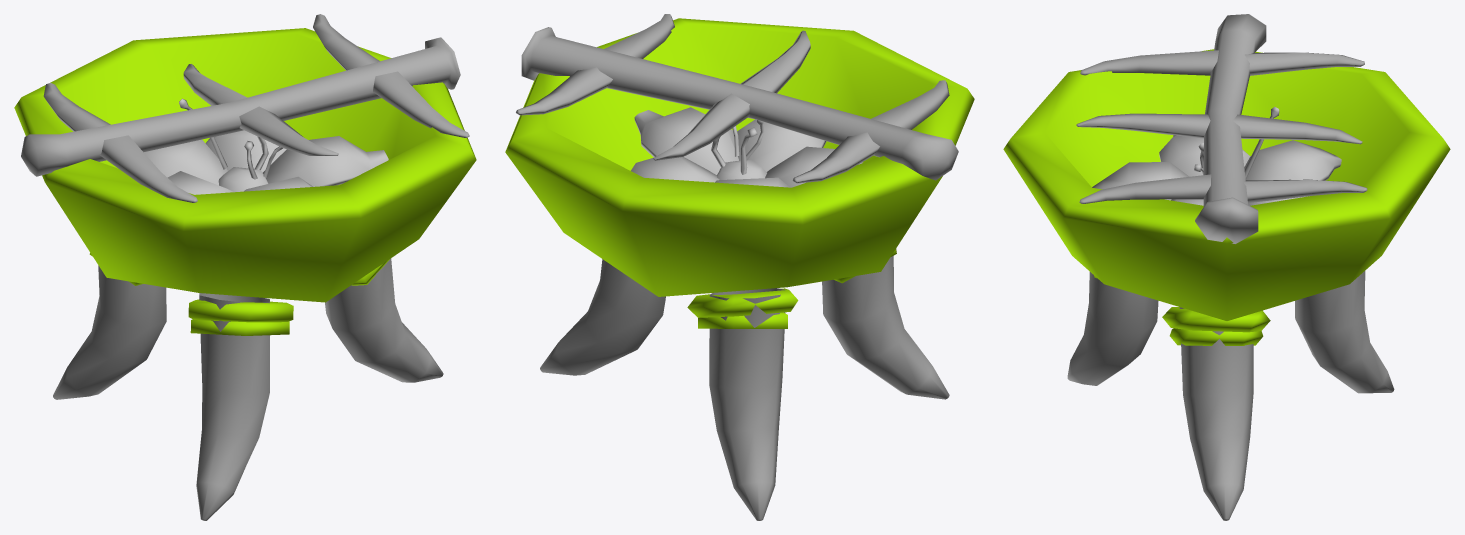
The model's file is LOD1_barbeuc.fbx.
3 views of the same model, side by side, from view 1: azimuth 30°, elevation 25°; view 2: azimuth 150°, elevation 25°; view 3: azimuth 270°, elevation 25° (orthographic). The views are drawn at different scales.
Parts seen in each view (by area): view 1: barbeuc_LOD1, grille_barbeuc_LOD1, Os06_LOD1, fleur_barbeuc_LOD1, Os05_LOD1, Os07_LOD1; view 2: barbeuc_LOD1, grille_barbeuc_LOD1, Os05_LOD1, fleur_barbeuc_LOD1, Os06_LOD1, Os07_LOD1; view 3: barbeuc_LOD1, grille_barbeuc_LOD1, Os07_LOD1, Os05_LOD1, fleur_barbeuc_LOD1, Os06_LOD1.
Boxes of the visible parts, <box> form: barbeuc_LOD1: <box>14,28,476,335</box>; grille_barbeuc_LOD1: <box>21,14,469,202</box>; Os06_LOD1: <box>196,293,269,520</box>; fleur_barbeuc_LOD1: <box>144,98,388,194</box>; Os05_LOD1: <box>53,265,166,399</box>; Os07_LOD1: <box>325,258,443,382</box>; barbeuc_LOD1: <box>505,18,974,328</box>; grille_barbeuc_LOD1: <box>516,14,958,183</box>; Os05_LOD1: <box>709,288,785,520</box>; fleur_barbeuc_LOD1: <box>631,107,862,187</box>; Os06_LOD1: <box>822,256,949,399</box>; Os07_LOD1: <box>540,259,665,375</box>; barbeuc_LOD1: <box>1003,49,1450,345</box>; grille_barbeuc_LOD1: <box>1076,14,1367,243</box>; Os07_LOD1: <box>1179,307,1253,520</box>; Os05_LOD1: <box>1295,271,1394,393</box>; fleur_barbeuc_LOD1: <box>1092,106,1341,205</box>; Os06_LOD1: <box>1067,272,1158,385</box>.
Size of the model in its own units: 72.85 by 58.35 by 70.36.
